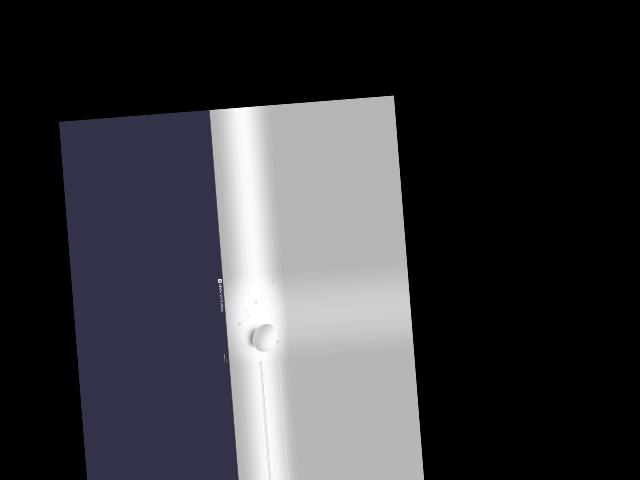egg: (250, 323, 277, 353)
